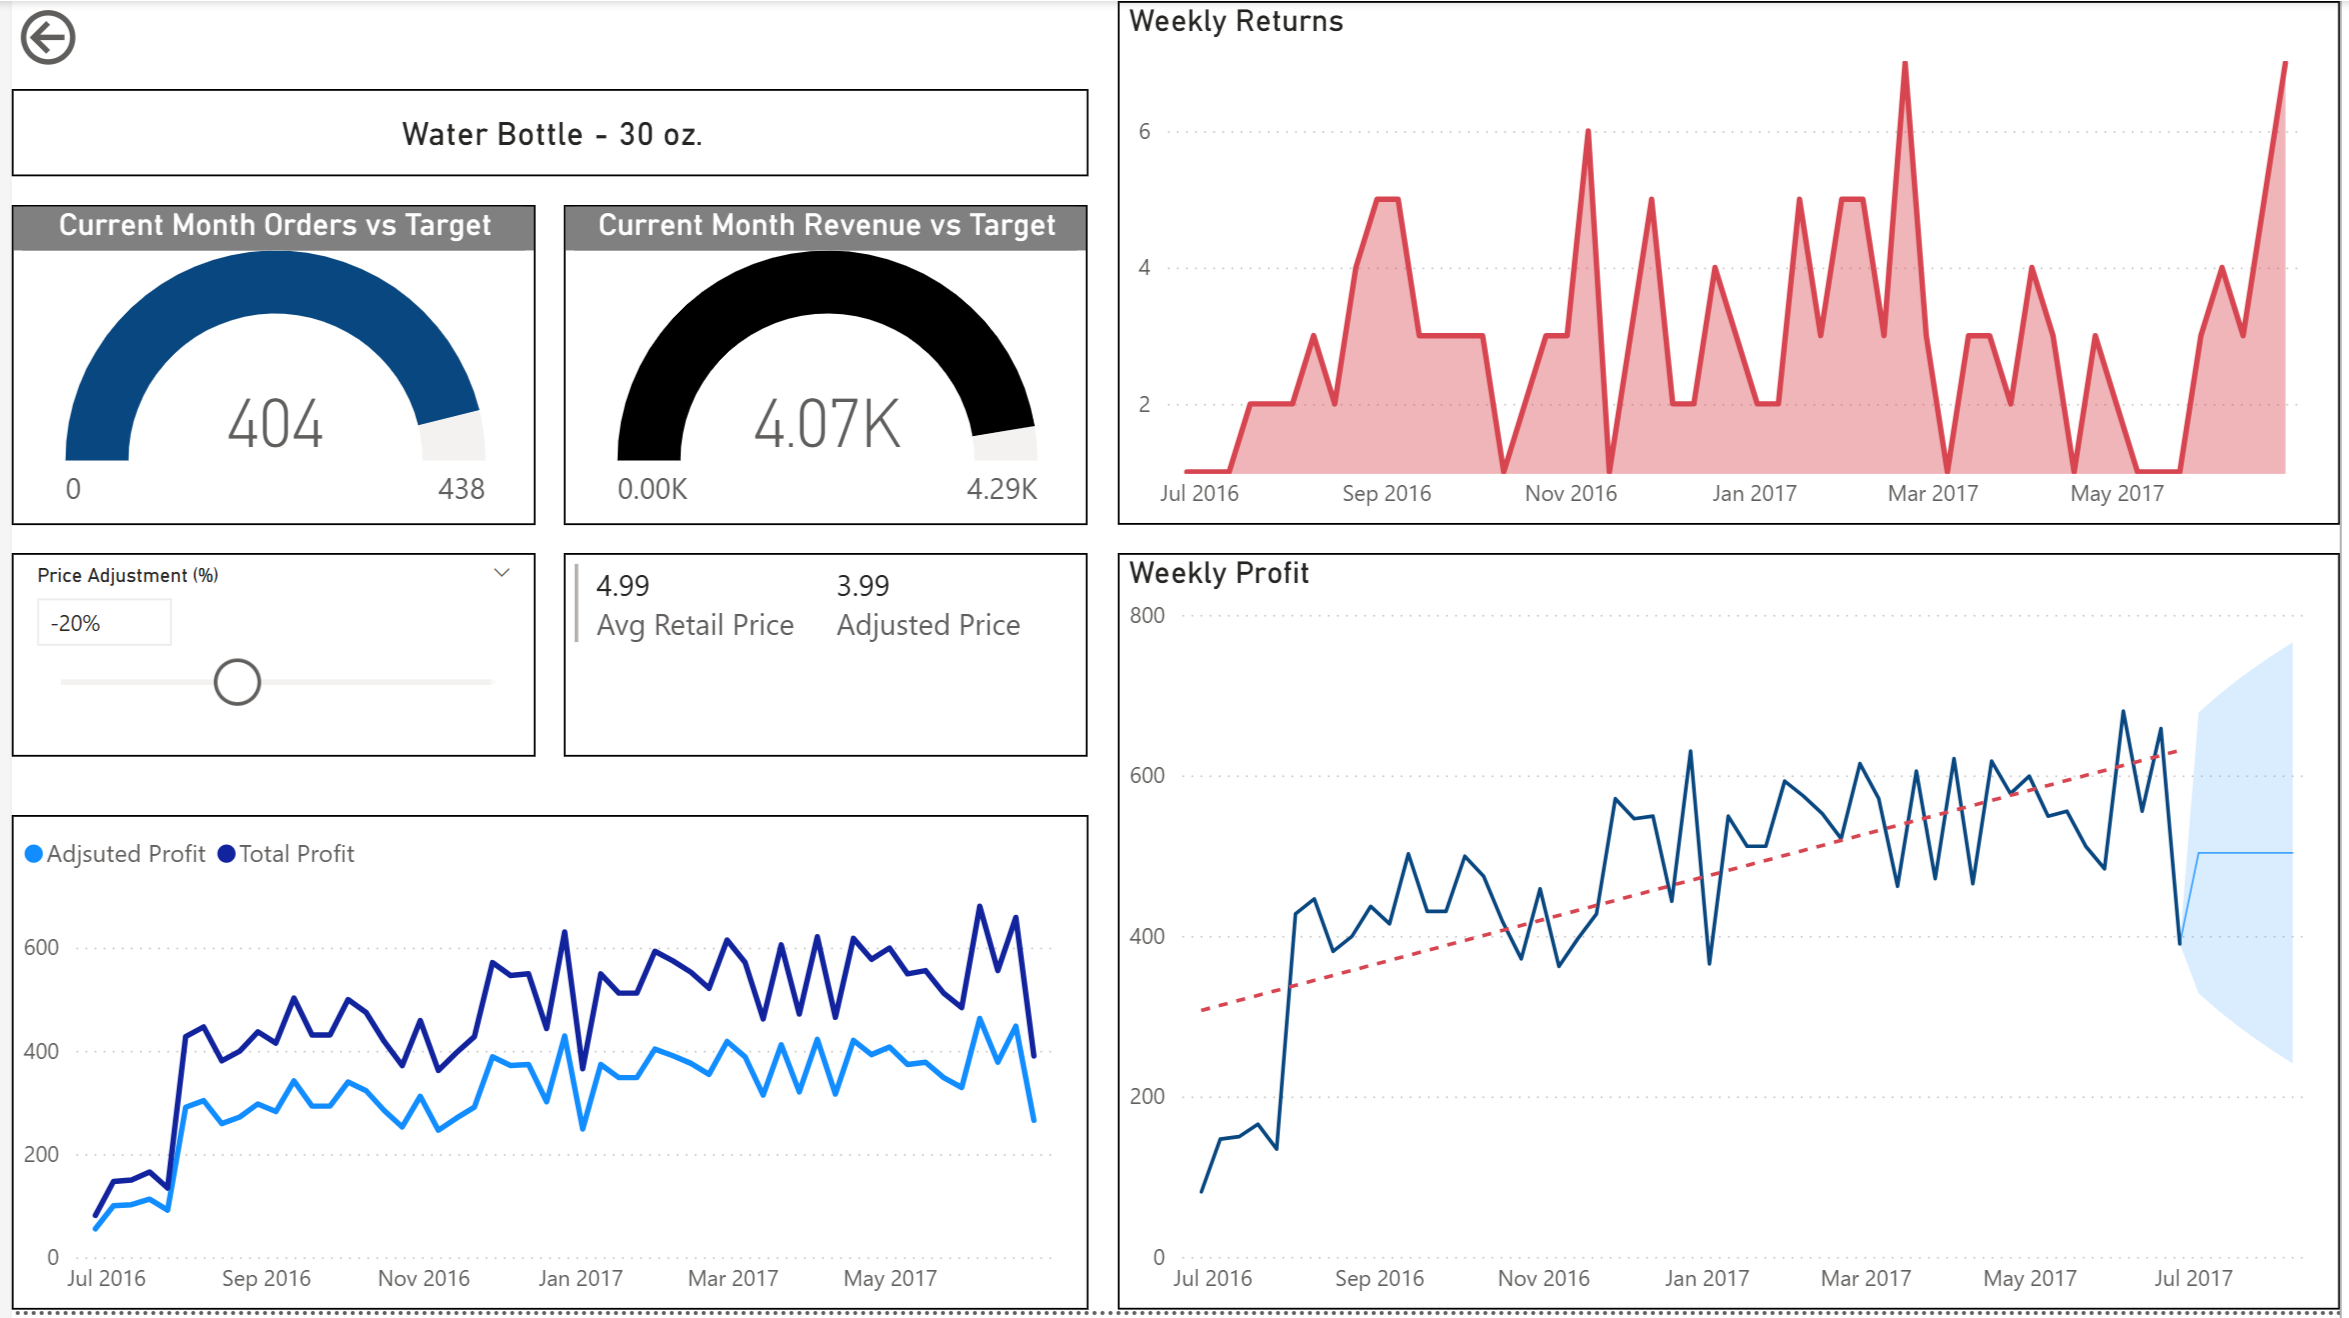

The page's visual inventory and layout, read from the dashboard file:
{"tool":"powerbi","page":{"name":"Product Details","canvas":[1280,720],"ordinal":1},"visuals":[{"type":"lineChart","title":"Weekly Profit","fields":{"Y":["A Measure Table.Total Profit"],"Category":["Calendar_Lookup.Start of Week"]},"box":[608,304,672,416],"z":0},{"type":"areaChart","title":"Weekly Returns","fields":{"Y":["A Measure Table.Total Returns"],"Category":["Calendar_Lookup.Start of Week"]},"box":[608,0,672,288],"z":1000},{"type":"gauge","title":"Current Month Orders vs Target","fields":{"Y":["A Measure Table.Total Orders By Line"],"MaxValue":["A Measure Table.Order Target"]},"box":[0,112,288,176],"z":2000},{"type":"gauge","title":"Current Month Revenue vs Target","fields":{"Y":["A Measure Table.Total Revenue Measure"],"MaxValue":["A Measure Table.Revenue Target"]},"box":[304,112,288,176],"z":3000},{"type":"card","fields":{"Values":["Min(Product_Lookup.ProductName)"]},"box":[0,48,592,48],"z":4000},{"type":"actionButton","box":[0,0,100,40],"z":5000},{"type":"slicer","fields":{"Values":["Price Adjustment (%).Price Adjustment (%)"]},"box":[0,304,288,112],"z":6000},{"type":"multiRowCard","fields":{"Values":["A Measure Table.Avg Retail Price","A Measure Table.Adjusted Price"]},"box":[304,304,288,112],"z":7000},{"type":"lineChart","fields":{"Y":["A Measure Table.Adjsuted Profit","A Measure Table.Total Profit"],"Category":["Calendar_Lookup.Start of Week"]},"box":[0,448,592,272],"z":8000}]}

Visuals, with their boxes in screenshot pixels (x1, y1, x2, y2), scaled from the page's 1280x720 canvas onto the 2349x1318 screenshot:
"Weekly Profit" lineChart: 1116:556:2348:1317
"Weekly Returns" areaChart: 1116:0:2348:527
"Current Month Orders vs Target" gauge: 0:205:529:527
"Current Month Revenue vs Target" gauge: 558:205:1086:527
card - Min(Product_Lookup.ProductName): 0:88:1086:176
actionButton: 0:0:184:73
slicer - Price Adjustment (%).Price Adjustment (%): 0:556:529:762
multiRowCard - A Measure Table.Avg Retail Price x A Measure Table.Adjusted Price: 558:556:1086:762
lineChart - A Measure Table.Adjsuted Profit x A Measure Table.Total Profit: 0:820:1086:1317
